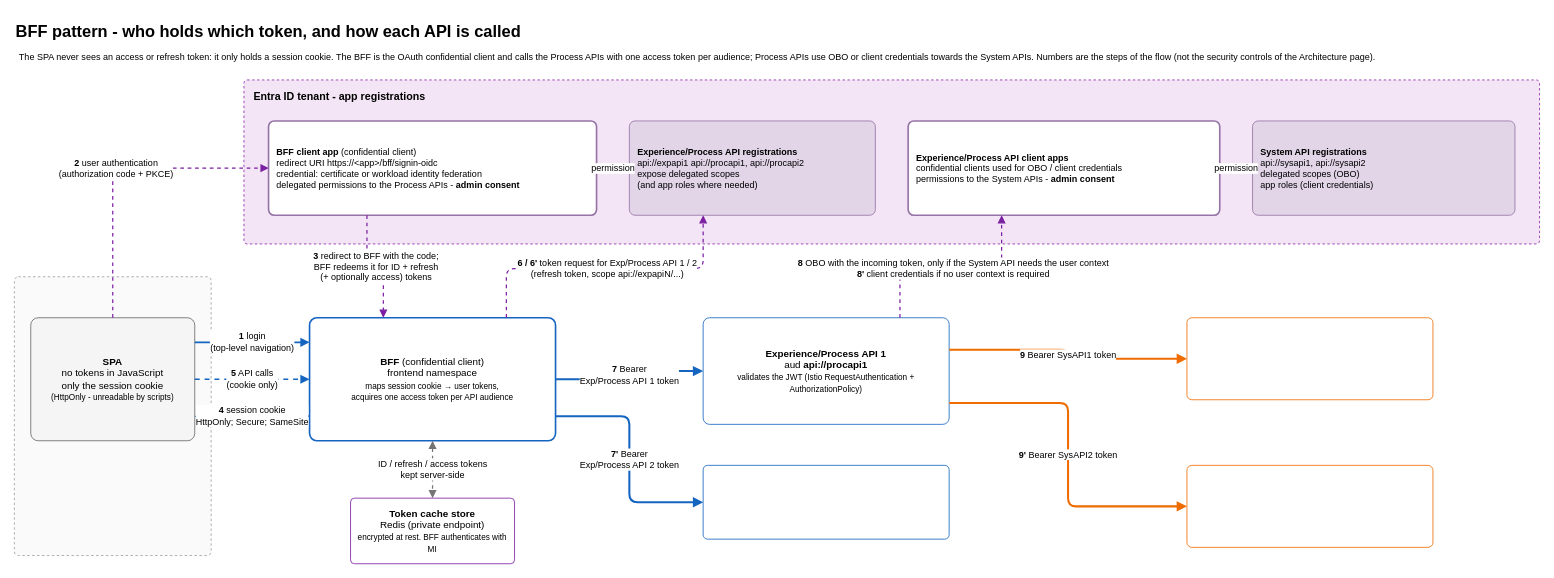
Some shapes in this 1554 by 578 pixel diagram are drawn without their labels. Each missing label, with the box of its shape:
Browser: (14, 276, 211, 556)
Experience/Process API 2 aud api://procapi2: (702, 465, 949, 539)
System API 1 aud api://sysapi1: (1186, 317, 1433, 400)
System API 2 aud api://sysapi2: (1186, 465, 1433, 547)
